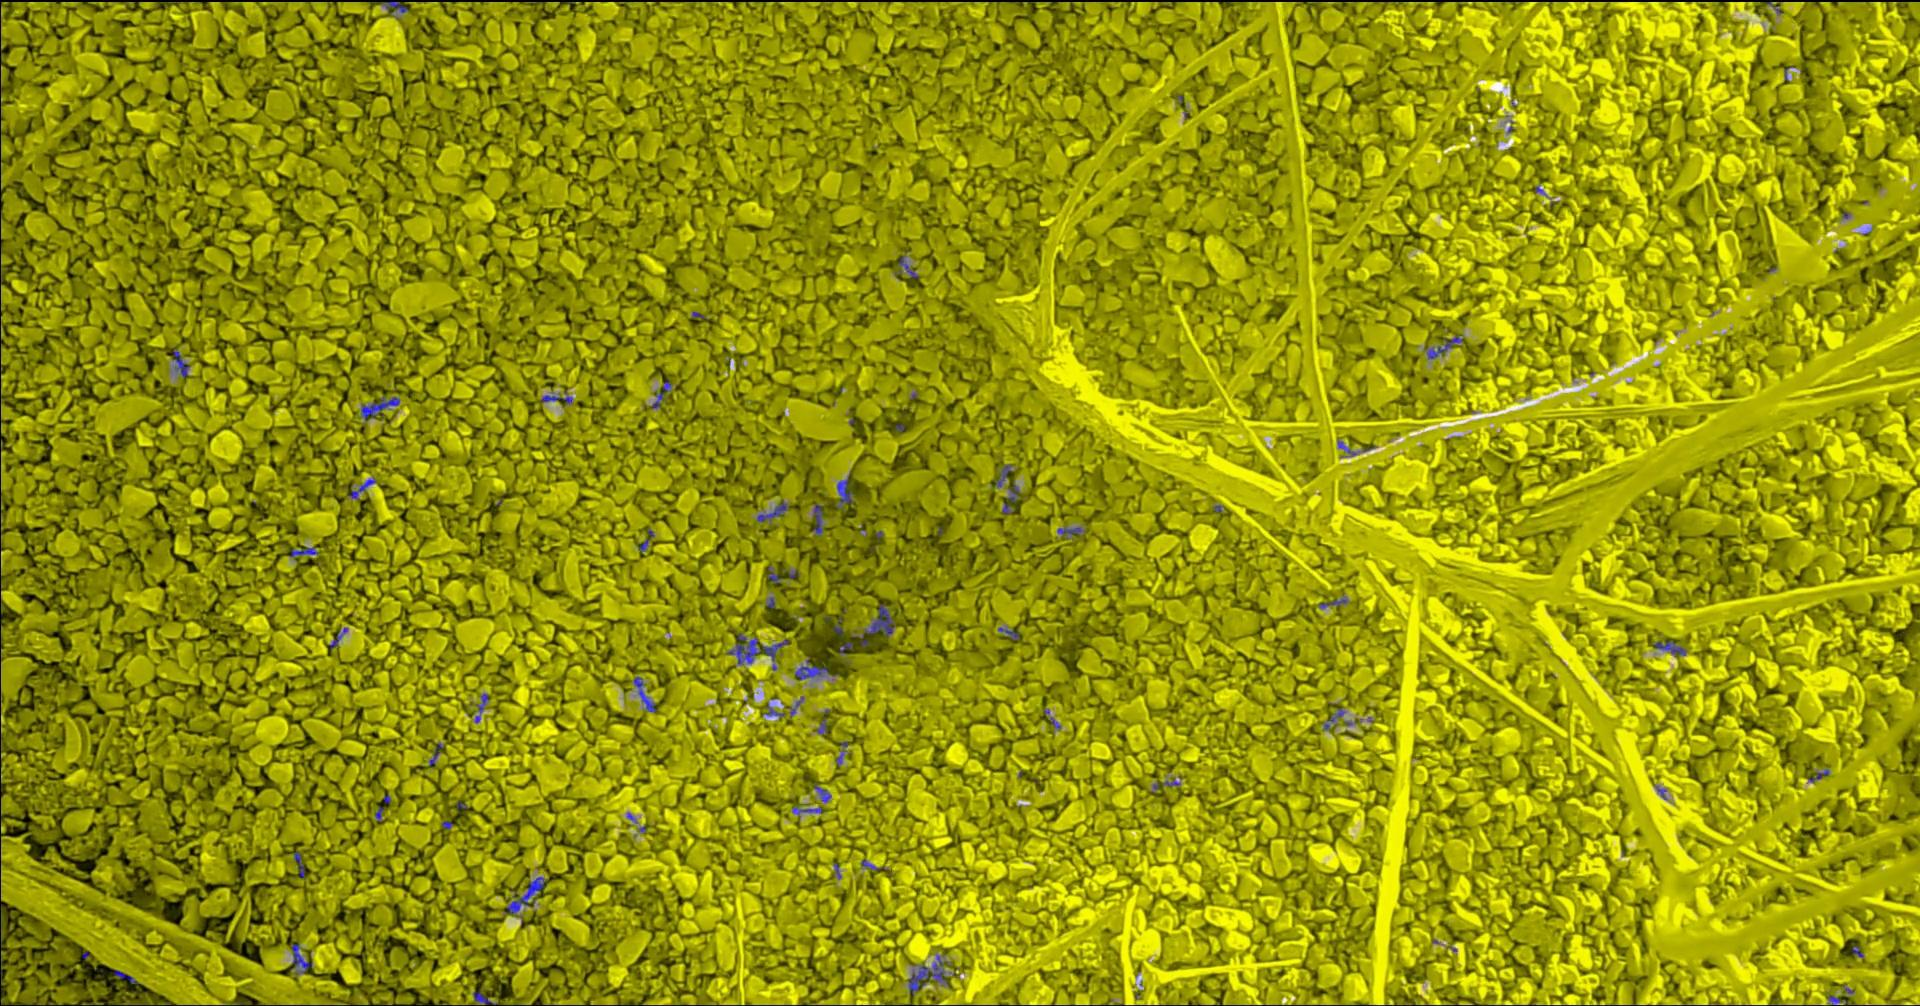ant: (726, 633, 789, 669), (907, 955, 950, 995), (504, 876, 545, 913), (860, 605, 894, 647), (1425, 334, 1463, 359), (361, 396, 399, 420), (632, 676, 655, 713), (794, 659, 827, 680), (756, 500, 787, 521), (291, 942, 311, 973), (349, 476, 375, 499), (651, 380, 670, 408), (171, 348, 189, 377), (1001, 484, 1018, 513), (836, 479, 853, 507), (897, 255, 918, 278), (1655, 640, 1685, 655), (1323, 708, 1343, 729), (540, 390, 571, 403), (380, 0, 408, 14), (474, 694, 488, 721), (994, 464, 1011, 486), (811, 503, 823, 535), (112, 969, 137, 983), (472, 991, 498, 1005), (329, 627, 347, 647), (817, 709, 829, 734), (290, 545, 317, 556), (813, 785, 830, 801), (1057, 527, 1081, 539), (1152, 779, 1178, 789), (767, 564, 781, 583), (293, 851, 303, 876), (1318, 598, 1346, 607), (997, 627, 1018, 639), (791, 807, 822, 813)
